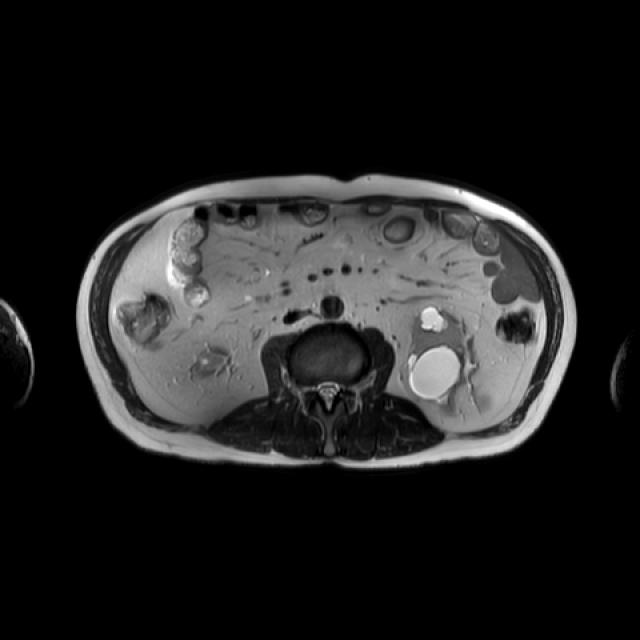sag: (195, 348, 236, 377)
sol: (406, 306, 463, 401)
